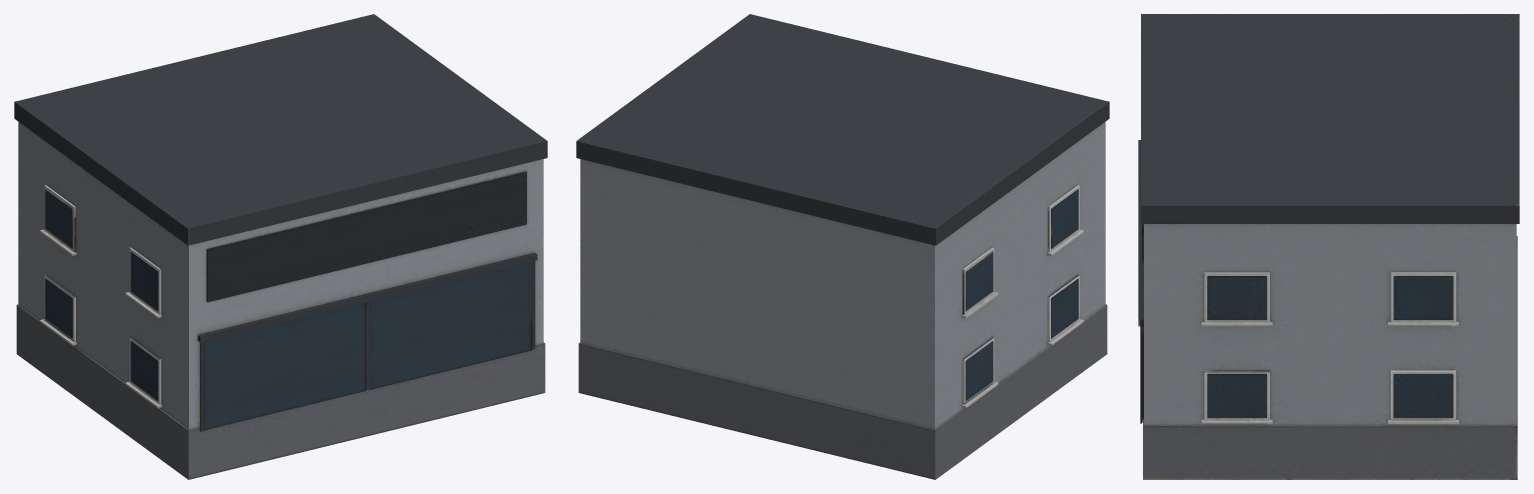
File: autopart.glb
3 views of the same model, side by side, from view 1: azimuth 30°, elevation 25°; view 2: azimuth 150°, elevation 25°; view 3: azimuth 270°, elevation 25° (orthographic). The views are drawn at different scales.
Visible parts, largest first — view 1: autopart; view 2: autopart; view 3: autopart.
Part boxes in pixels (x1,y1,x2,y2): autopart: (14, 14, 547, 479); autopart: (576, 14, 1109, 479); autopart: (1138, 14, 1519, 479).
Size of the model in its own units: 12.32 by 8.15 by 10.23.
1 material, 1 textured.
